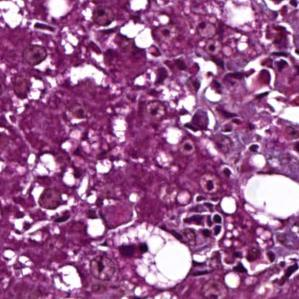ballooning: (105, 220, 195, 291), (241, 170, 299, 231)
